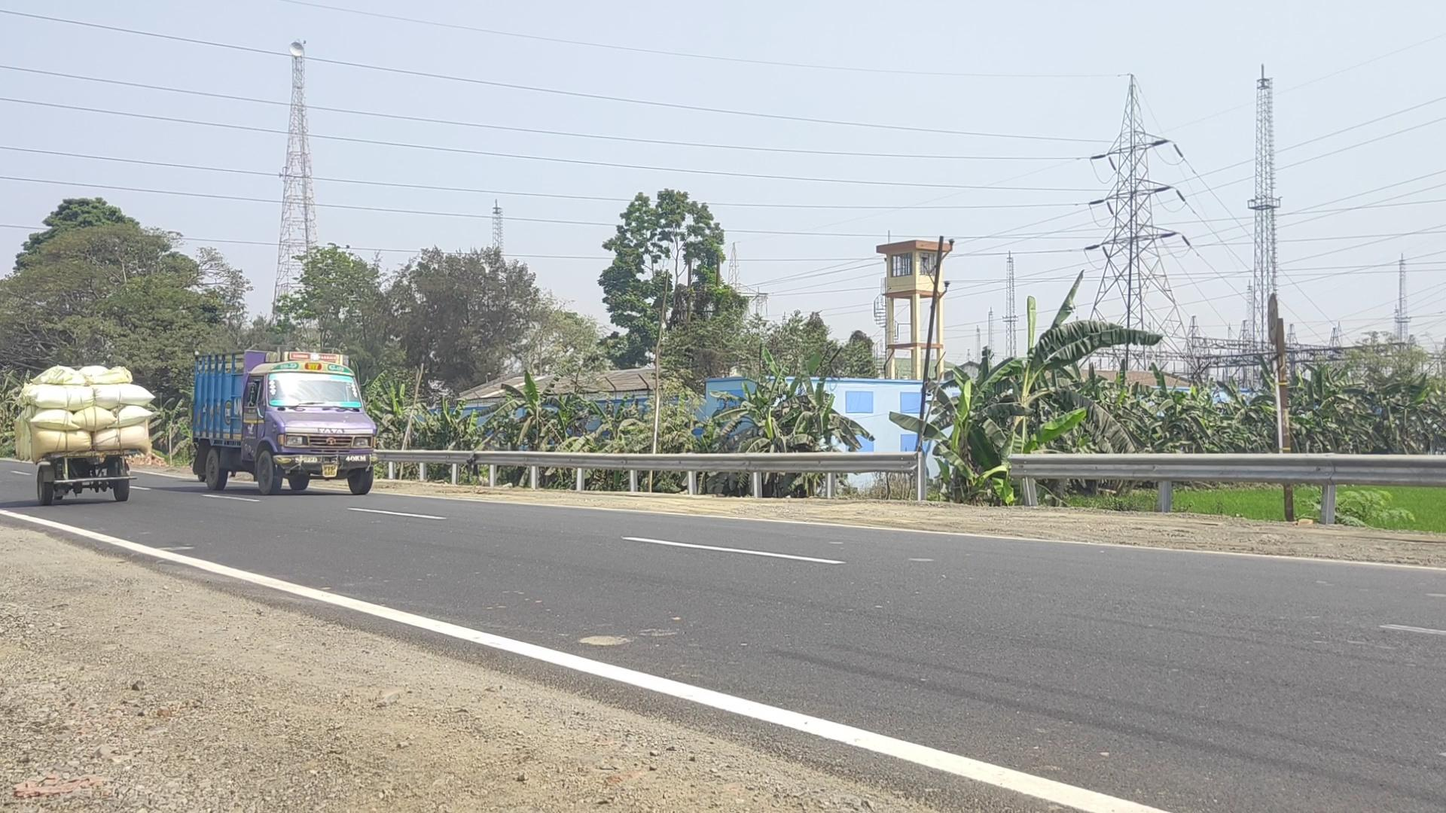truck: (189, 349, 377, 497)
